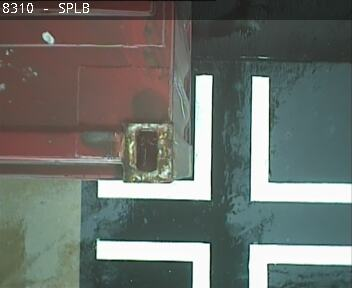groundmarker_1: (98, 76, 352, 201)
